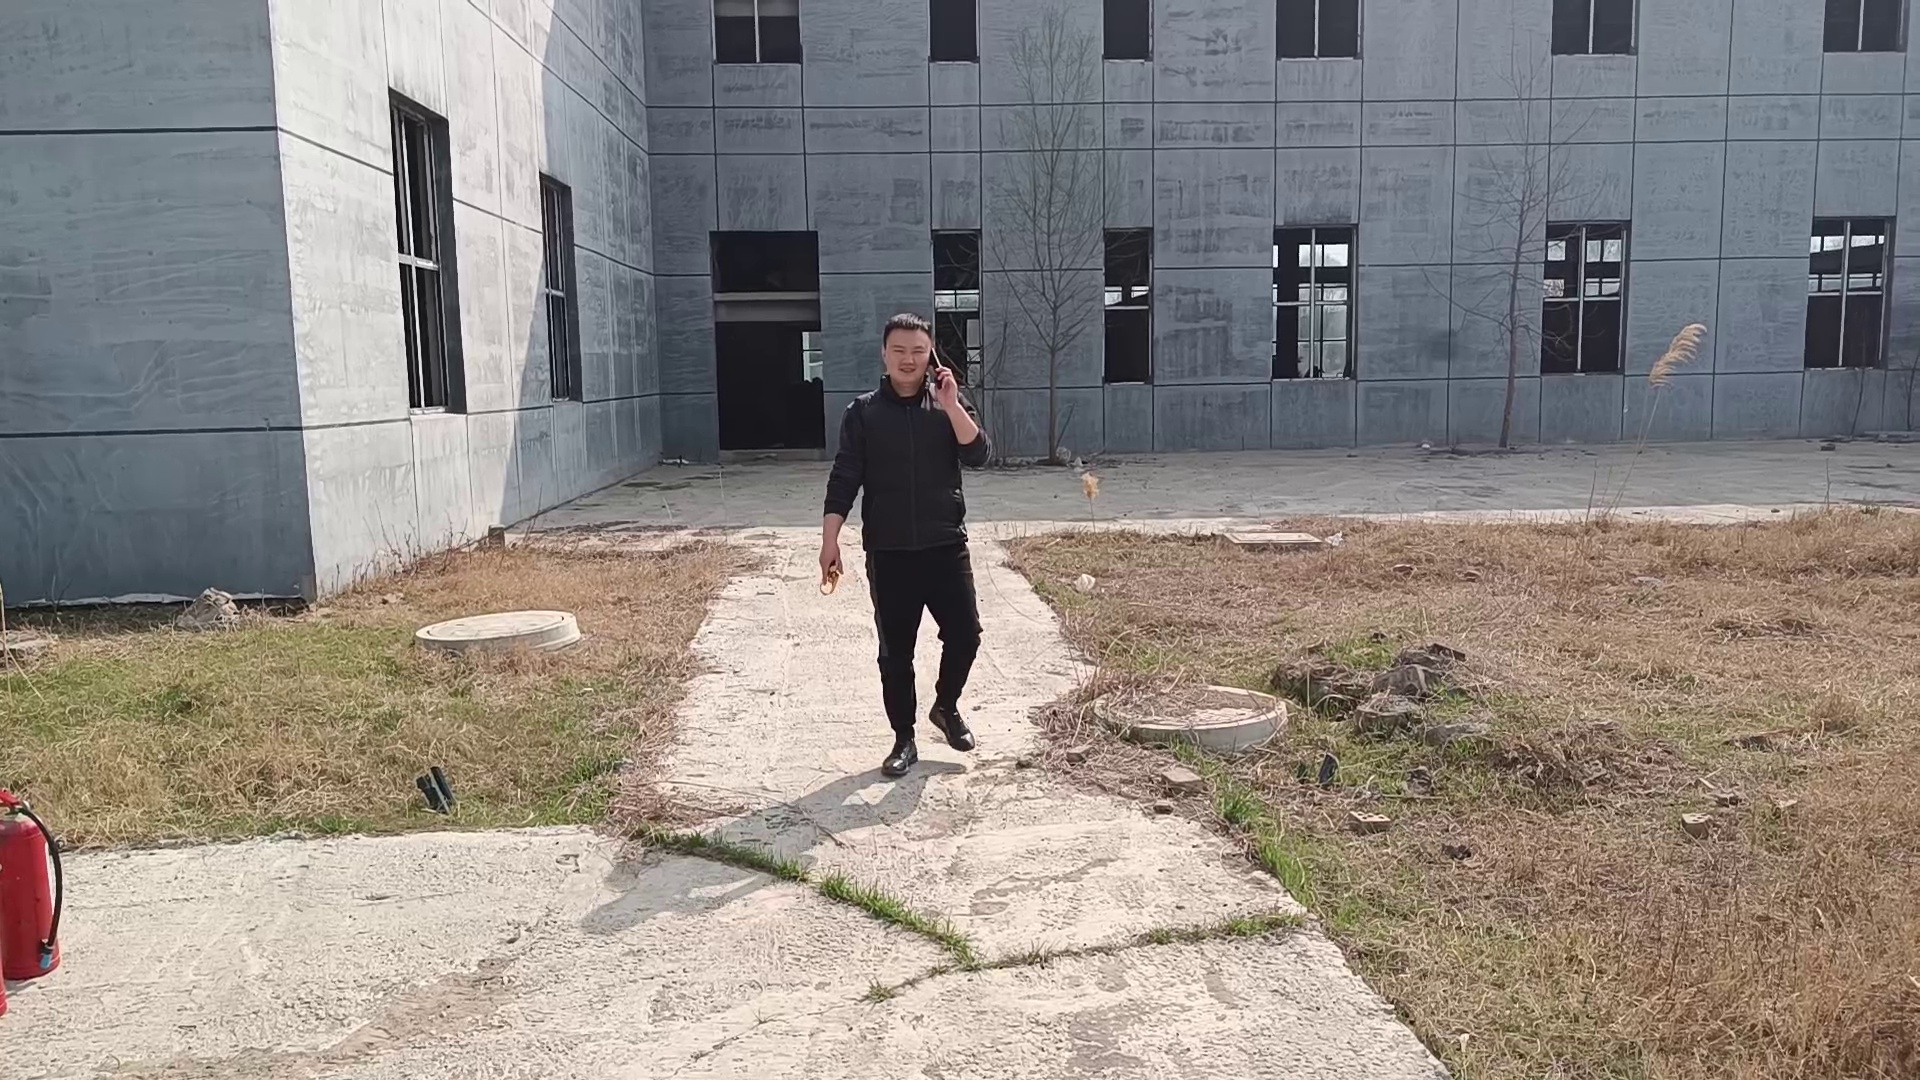phone: (878, 311, 957, 407)
